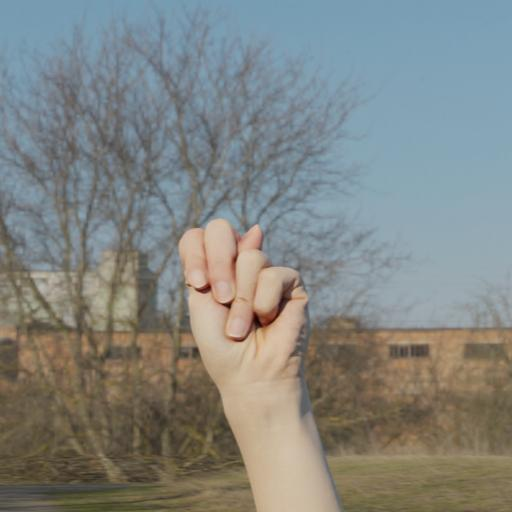N: (174, 218, 326, 406)
